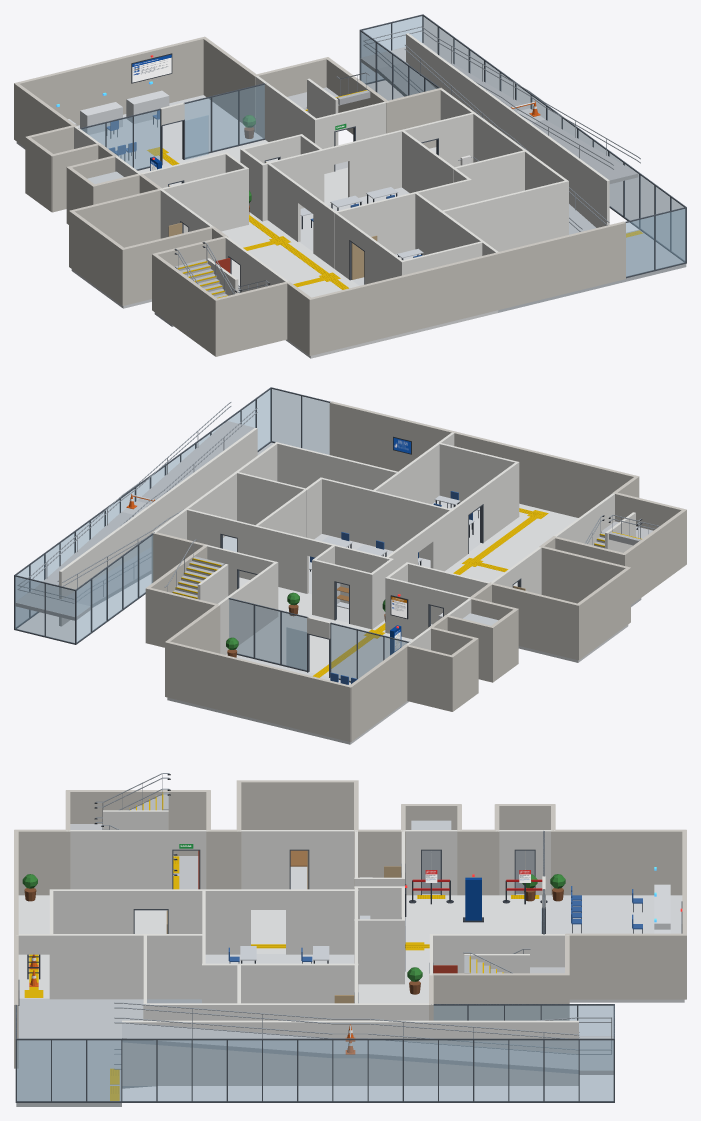
Rendered from predio-teste-p02.glb.
The picture shows the model from 3 angles, top to bottom: view 1: azimuth 30°, elevation 25°; view 2: azimuth 150°, elevation 25°; view 3: azimuth 270°, elevation 25°; orthographic projection. The views are drawn at different scales.
Visible parts, largest first — view 1: PCTP02PAREDE_GERAL, PCTP02PISO_LAJE, PCTP02RAMPA_1, PCTP02PORTA_GERAL, PCTP02MOBILIA_GERAL, PCTP02ESCADA_B, PCTP02ESCADA_A, PCTP02PISOTATIL_DIRECIONAL, PCTP02REFERENCIA_SENHAS; view 2: PCTP02PAREDE_GERAL, PCTP02RAMPA_1, PCTP02PISO_LAJE, PCTP02PORTA_GERAL, PCTP02ESCADA_A, PCTP02MOBILIA_GERAL, PCTP02ESCADA_B, PCTP02PISOTATIL_DIRECIONAL; view 3: PCTP02PAREDE_GERAL, PCTP02RAMPA_1, PCTP02PISO_LAJE, PCTP02PORTA_GERAL, PCTP02MOBILIA_GERAL, PCTP02ESCADA_B, PCTP02ESCADA_A, PCTP02PISOTATIL_ALERTA, PCTP02REFERENCIA_MAPA, PCTP02ELEVADOR_2, PCTP02ELEVADOR_1, PCTP02PISOTATIL_DIRECIONAL (+1 smaller).
Part boxes in pixels (x1,y1,x2,y2): PCTP02PAREDE_GERAL: [14, 14, 686, 356]; PCTP02PISO_LAJE: [16, 95, 686, 358]; PCTP02RAMPA_1: [360, 26, 640, 234]; PCTP02PORTA_GERAL: [80, 102, 499, 292]; PCTP02MOBILIA_GERAL: [56, 81, 478, 259]; PCTP02ESCADA_B: [174, 242, 269, 298]; PCTP02ESCADA_A: [287, 72, 370, 145]; PCTP02PISOTATIL_DIRECIONAL: [155, 151, 348, 289]; PCTP02REFERENCIA_SENHAS: [131, 53, 172, 83]; PCTP02PAREDE_GERAL: [14, 387, 686, 742]; PCTP02RAMPA_1: [15, 402, 257, 626]; PCTP02PISO_LAJE: [167, 442, 641, 744]; PCTP02PORTA_GERAL: [220, 432, 571, 677]; PCTP02ESCADA_A: [164, 539, 228, 603]; PCTP02MOBILIA_GERAL: [226, 491, 479, 684]; PCTP02ESCADA_B: [585, 512, 659, 552]; PCTP02PISOTATIL_DIRECIONAL: [313, 508, 540, 677]; PCTP02PAREDE_GERAL: [14, 780, 686, 1102]; PCTP02RAMPA_1: [114, 1002, 613, 1088]; PCTP02PISO_LAJE: [16, 856, 684, 1106]; PCTP02PORTA_GERAL: [16, 830, 545, 1003]; PCTP02MOBILIA_GERAL: [22, 850, 670, 994]; PCTP02ESCADA_B: [70, 773, 177, 875]; PCTP02ESCADA_A: [463, 948, 564, 973]; PCTP02PISOTATIL_ALERTA: [24, 856, 539, 1100]; PCTP02REFERENCIA_MAPA: [463, 874, 483, 922]; PCTP02ELEVADOR_2: [422, 850, 440, 894]; PCTP02ELEVADOR_1: [515, 850, 534, 894]; PCTP02PISOTATIL_DIRECIONAL: [29, 944, 429, 993].
Bounding box in the file's own units: 26.13 × 4.14 × 28.7.
43 materials, 6 textured.
